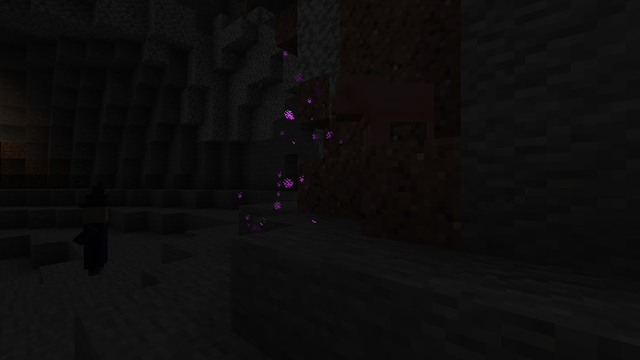cochons: (353, 70, 430, 152)
sorcieres: (80, 202, 112, 278)
